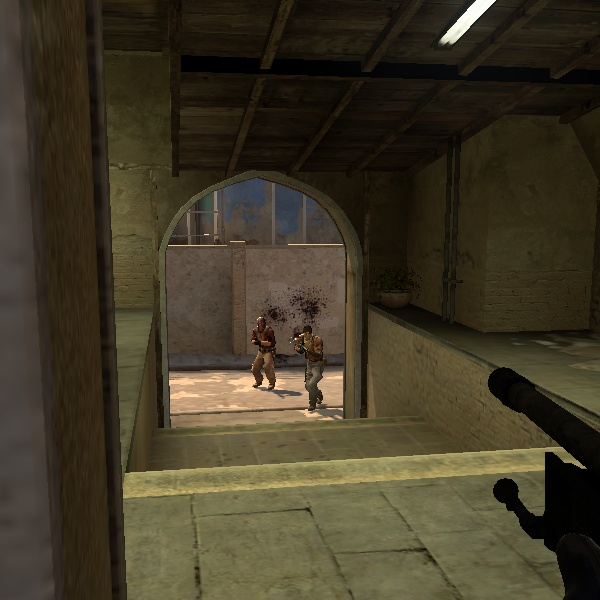t_body: (290, 320, 336, 410), (241, 314, 283, 390)
